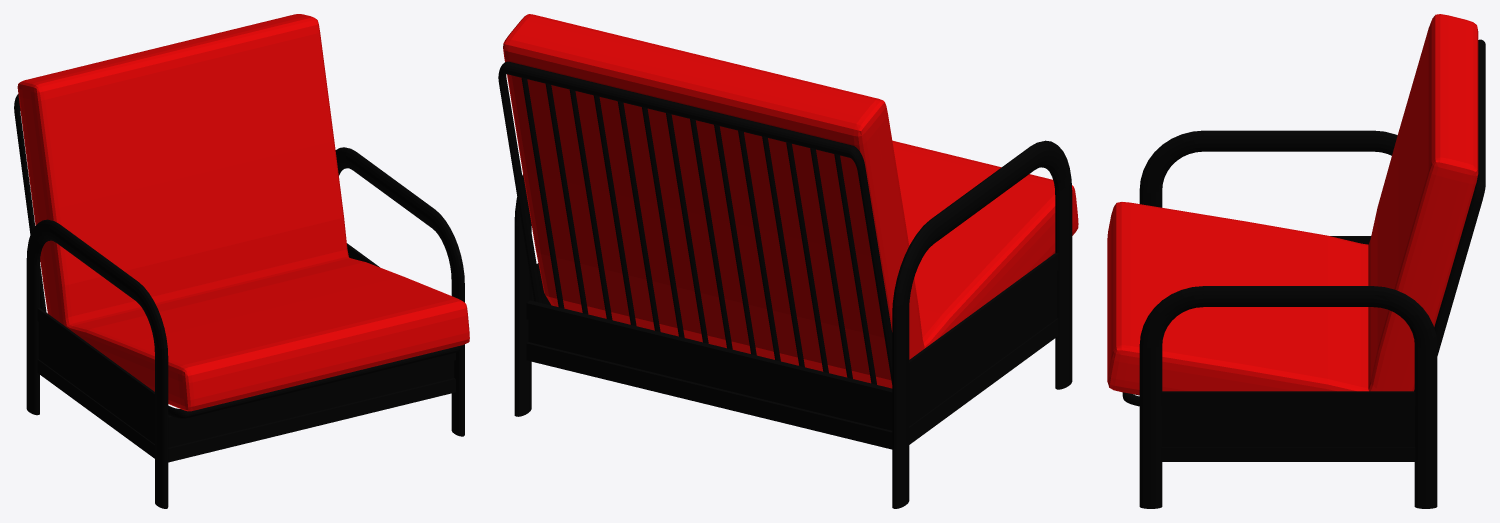
Rendered from sh-kl-futon-couch.glb.
3 renders of one model, left to right at view 1: azimuth 30°, elevation 25°; view 2: azimuth 150°, elevation 25°; view 3: azimuth 270°, elevation 25°, orthographic. The views are drawn at different scales.
Parts seen in each view (by area): view 1: Futon_matress_Futon_mattress, Futon_frame; view 2: Futon_matress_Futon_mattress, Futon_frame; view 3: Futon_matress_Futon_mattress, Futon_frame.
Boxes of the visible parts, <box> form: Futon_matress_Futon_mattress: <box>17,14,469,411</box>; Futon_frame: <box>14,94,464,508</box>; Futon_matress_Futon_mattress: <box>503,14,1078,388</box>; Futon_frame: <box>498,61,1072,508</box>; Futon_matress_Futon_mattress: <box>1107,14,1478,394</box>; Futon_frame: <box>1122,39,1485,508</box>.
Size of the model in its own units: 1 by 1 by 1.
